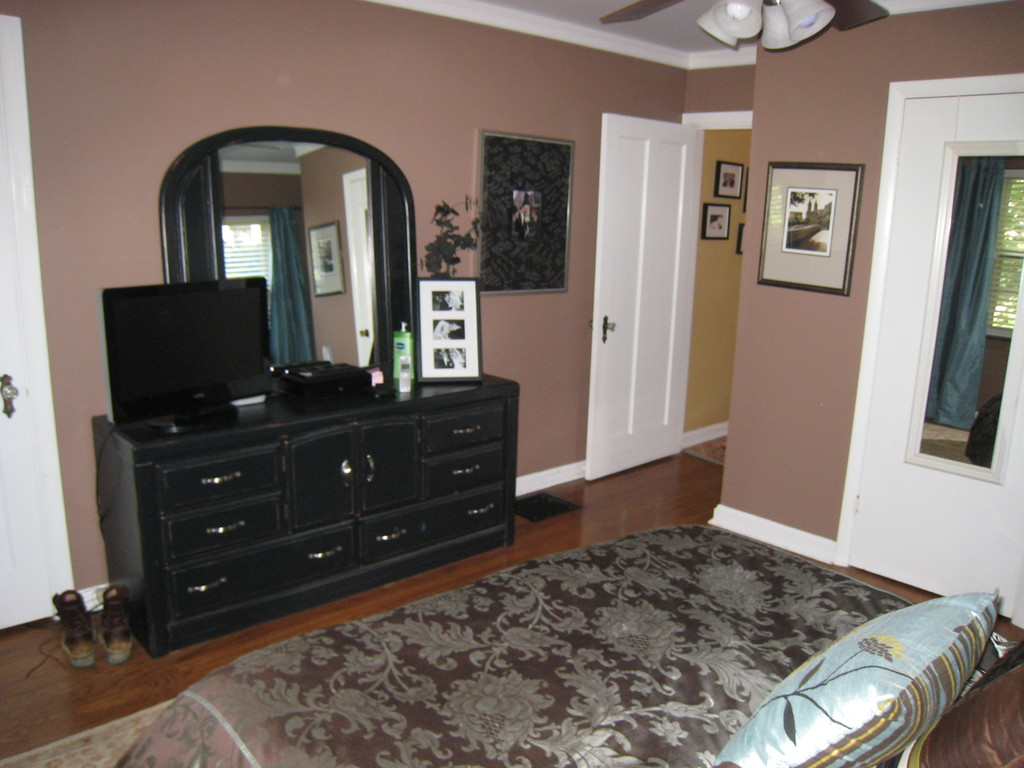cabinet door: (366, 422, 430, 500), (295, 445, 359, 519), (179, 560, 345, 586), (170, 463, 275, 495), (371, 514, 483, 544), (164, 511, 269, 541), (434, 403, 508, 442), (444, 446, 494, 484)
door: (607, 122, 683, 445)
handle: (200, 465, 243, 492), (183, 573, 230, 593), (447, 422, 487, 444), (205, 519, 248, 537), (313, 545, 347, 566), (338, 457, 355, 494), (2, 381, 22, 411), (466, 498, 495, 517), (378, 528, 409, 544), (449, 465, 479, 480), (599, 321, 621, 339), (361, 455, 376, 481)
